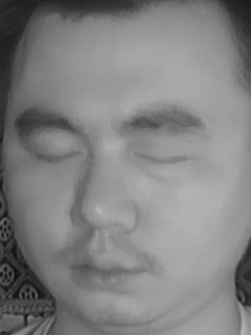blink: (136, 138, 192, 178), (34, 137, 79, 172)
mouth: (63, 236, 155, 298)
